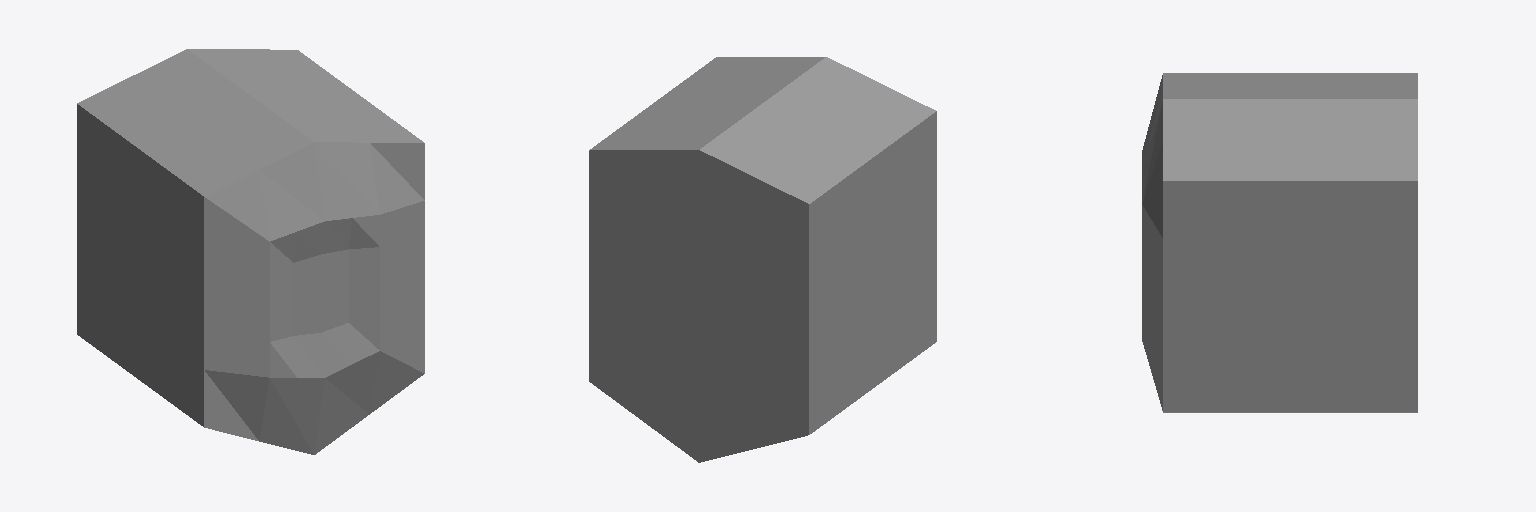
File: BF_Gattling_Body.obj
3 renders of one model, left to right at view 1: azimuth 30°, elevation 25°; view 2: azimuth 150°, elevation 25°; view 3: azimuth 270°, elevation 25°, orthographic.
Parts seen in each view (by area): view 1: Cube_Cube.001; view 2: Cube_Cube.001; view 3: Cube_Cube.001.
Part boxes in pixels (x1,y1,x2,y2): Cube_Cube.001: (77,49,424,454); Cube_Cube.001: (589,57,936,462); Cube_Cube.001: (1142,73,1417,412).
Bounding box in the file's own units: 2 × 2.71 × 2.16.